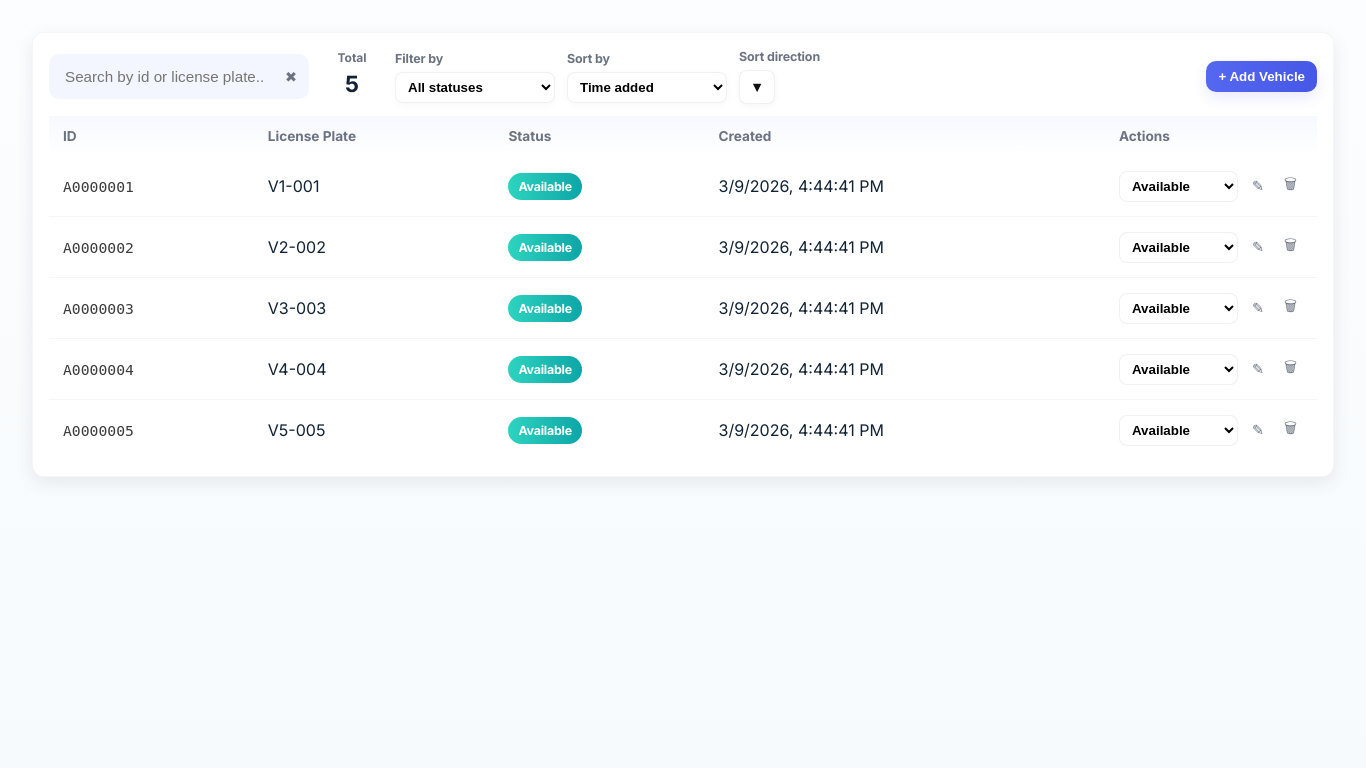
Test: VehicleTable — more advanced flows › maintenance cap enforced: with 5 vehicles, cannot set Maintenance (floor => allowed 0)
Check: the text "A0000001" is shown, box [49,156,254,216]
Select "Maintenance" in the dropdown named "Change status for V1-001" at (1178, 186), box [1119,170,1238,202]
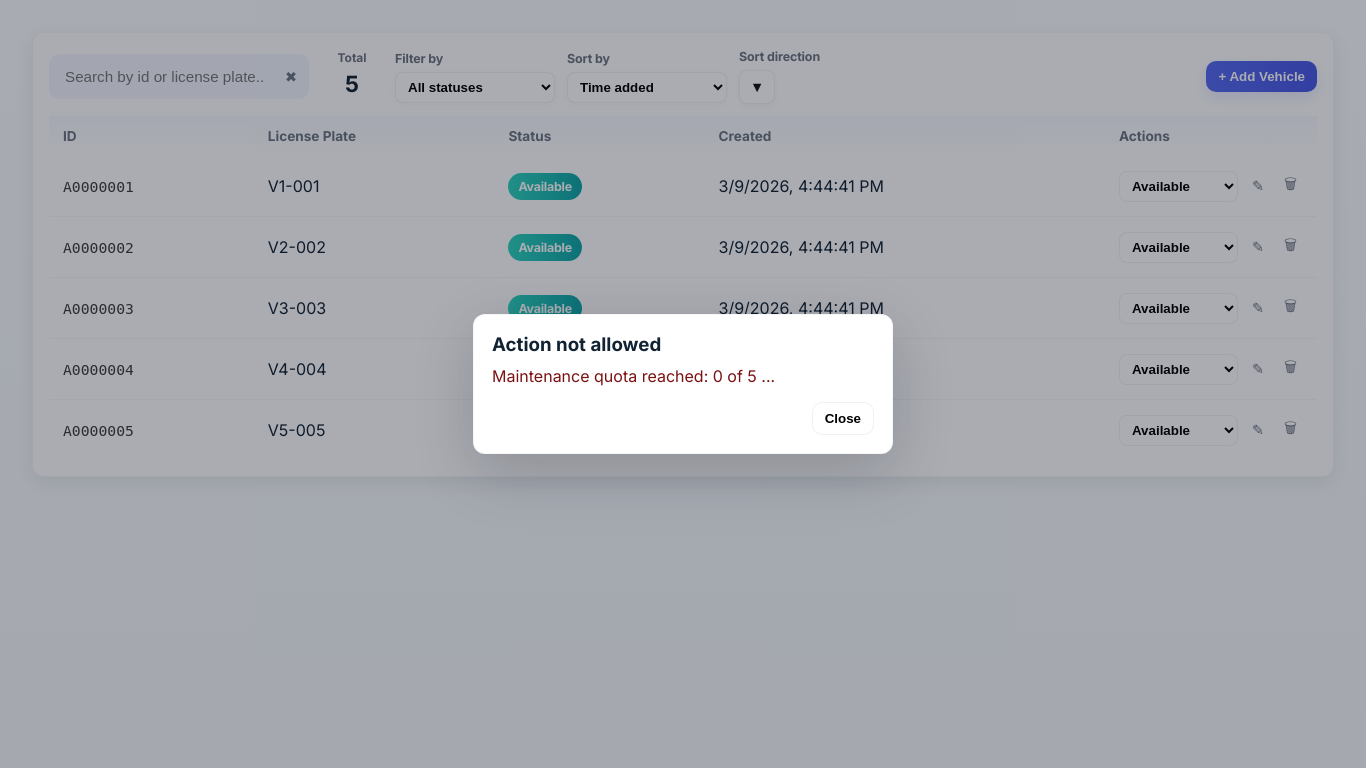
Check: the text "Maintenance quota reached: 0 of 5 ..." is shown, box [492,366,775,386]
